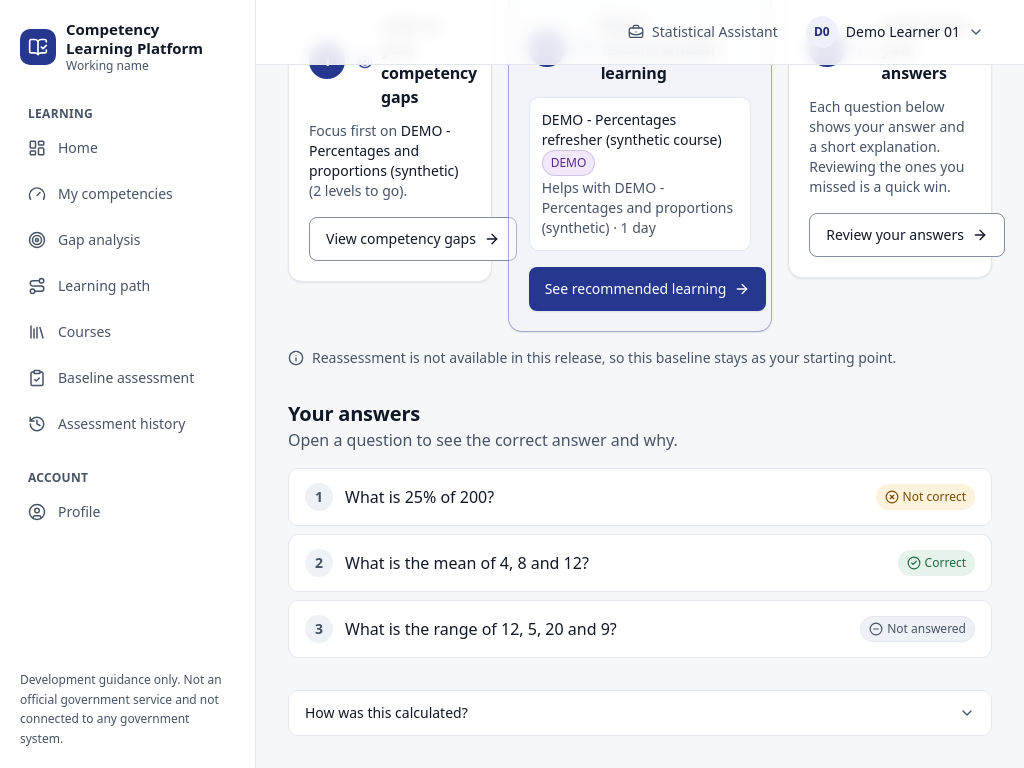
Test: result page › reviews answers with the answer text and keeps the method in a closed disclosure
(page scrolled)
Expected: the text "Not correct" is shown, [876,484,975,510]
Expected: the text "Correct" is shown, [898,550,975,576]
Step 1. Click the button "How was this calculated?" → (386, 712), box [289,691,991,735]
(page scrolled)
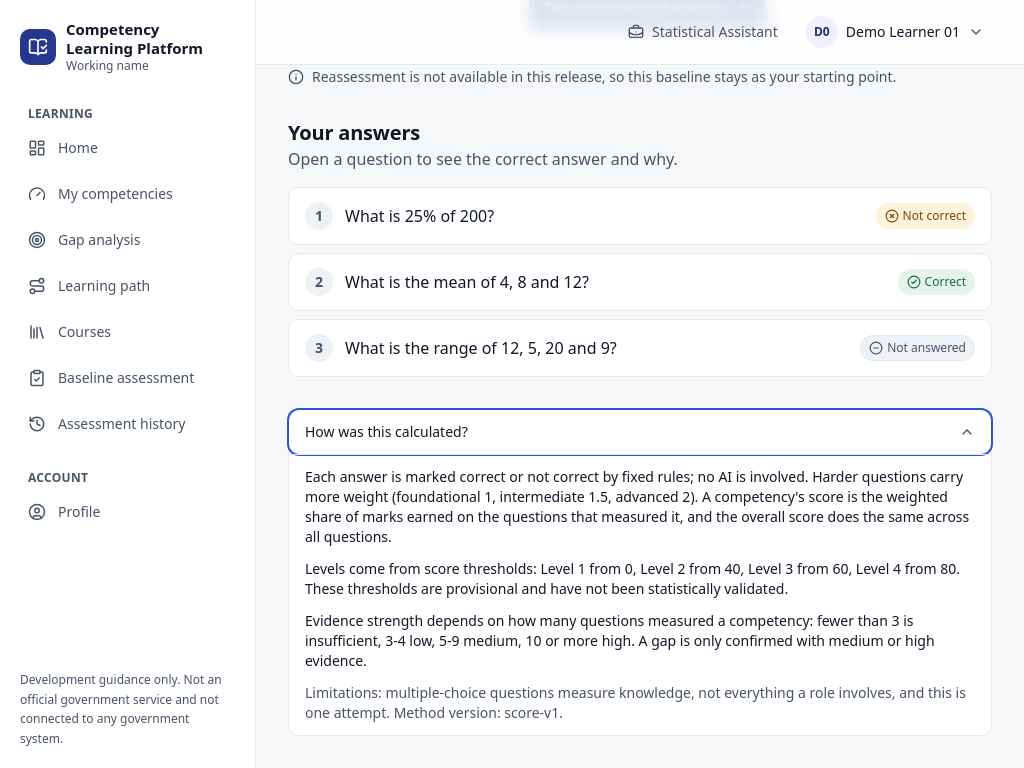
Expected: the text "foundational 1, intermediate 1.5, advanced 2" is shown, [305,467,969,546]
Expected: the text "Level 2 from 40" is shown, [540,559,956,578]
Expected: the text "Method version: score-v1" is shown, [390,703,563,722]
